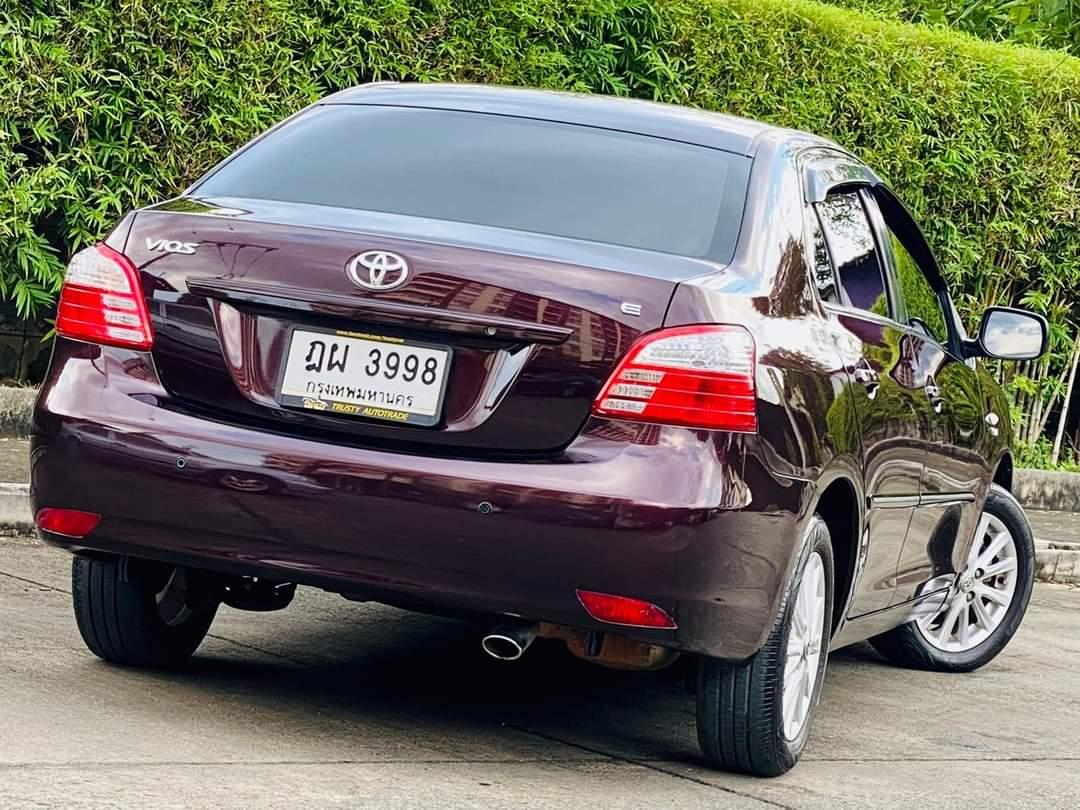license-plate: (272, 313, 449, 437)
